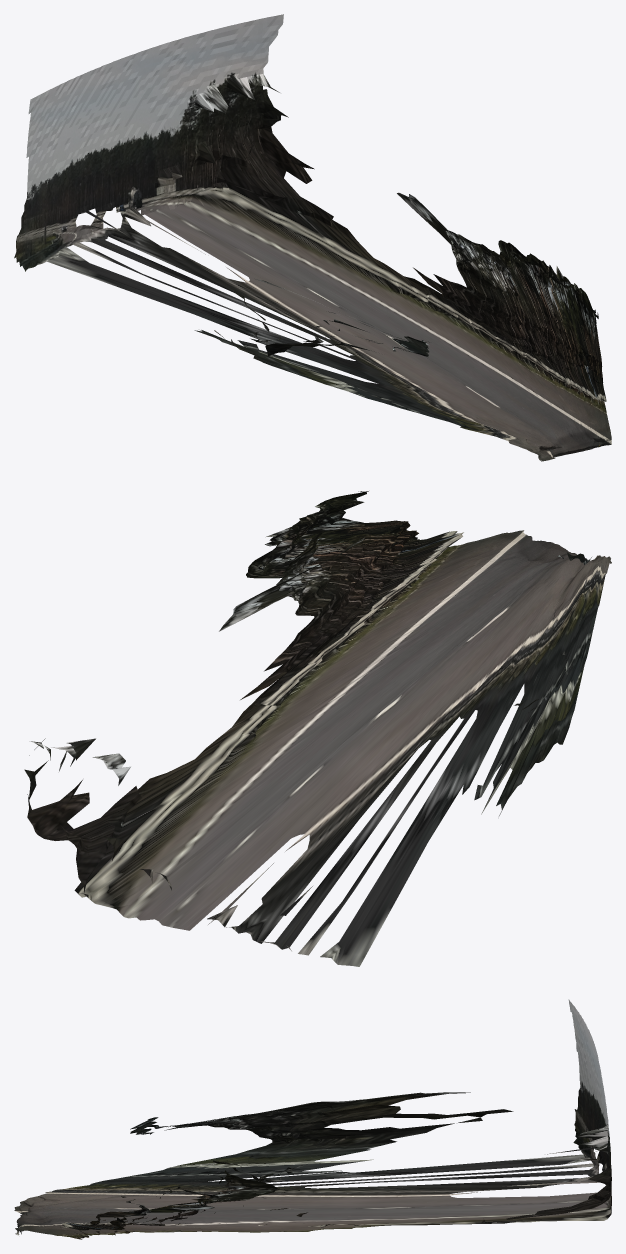
The picture shows the model from 3 angles, top to bottom: view 1: azimuth 30°, elevation 25°; view 2: azimuth 150°, elevation 25°; view 3: azimuth 270°, elevation 25°; orthographic projection. The views are drawn at different scales.
Parts seen in each view (by area): view 1: defaultobject; view 2: defaultobject; view 3: defaultobject.
Part boxes in pixels (x1=…): defaultobject: x1=14, y1=14, x2=611, y2=461; defaultobject: x1=24, y1=491, x2=611, y2=966; defaultobject: x1=14, y1=999, x2=611, y2=1239.
Bounding box in the file's own units: 23.56 × 12.36 × 44.43.
1 material, 1 textured.
